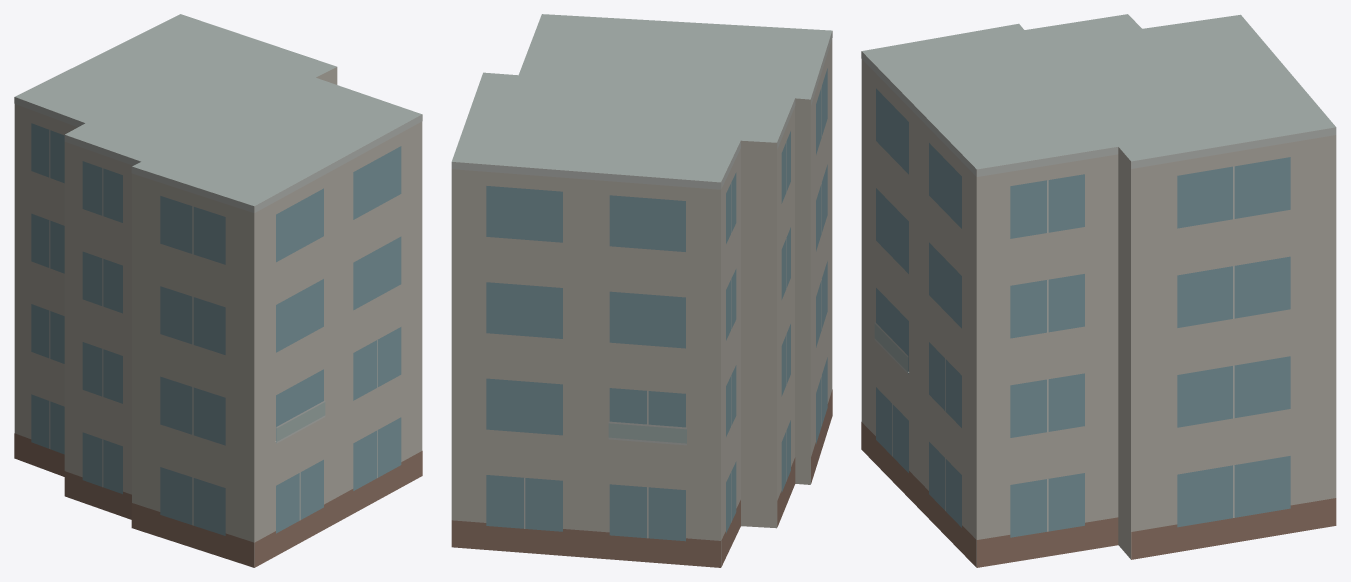
Rendered from survey-upis-32480829.glb.
3 views of the same model, side by side, from view 1: azimuth 30°, elevation 25°; view 2: azimuth 150°, elevation 25°; view 3: azimuth 270°, elevation 25° (orthographic). The views are drawn at different scales.
Parts seen in each view (by area): view 1: survey-upis-32480829.tmp; view 2: survey-upis-32480829.tmp; view 3: survey-upis-32480829.tmp.
Boxes of the visible parts, x1,y1,x2,y2 form: survey-upis-32480829.tmp: (14, 14, 422, 567); survey-upis-32480829.tmp: (451, 14, 832, 567); survey-upis-32480829.tmp: (861, 14, 1336, 567).
Size of the model in its own units: 10.7 by 12.77 by 13.8.
